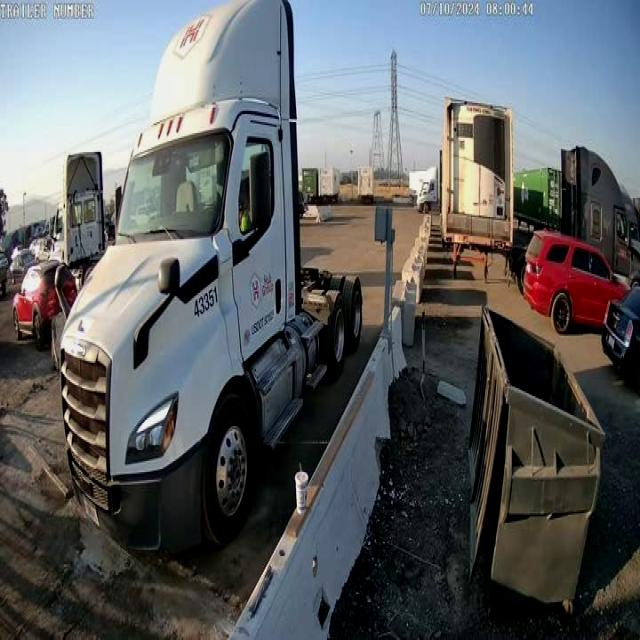BOBTAIL: (55, 1, 364, 557)
